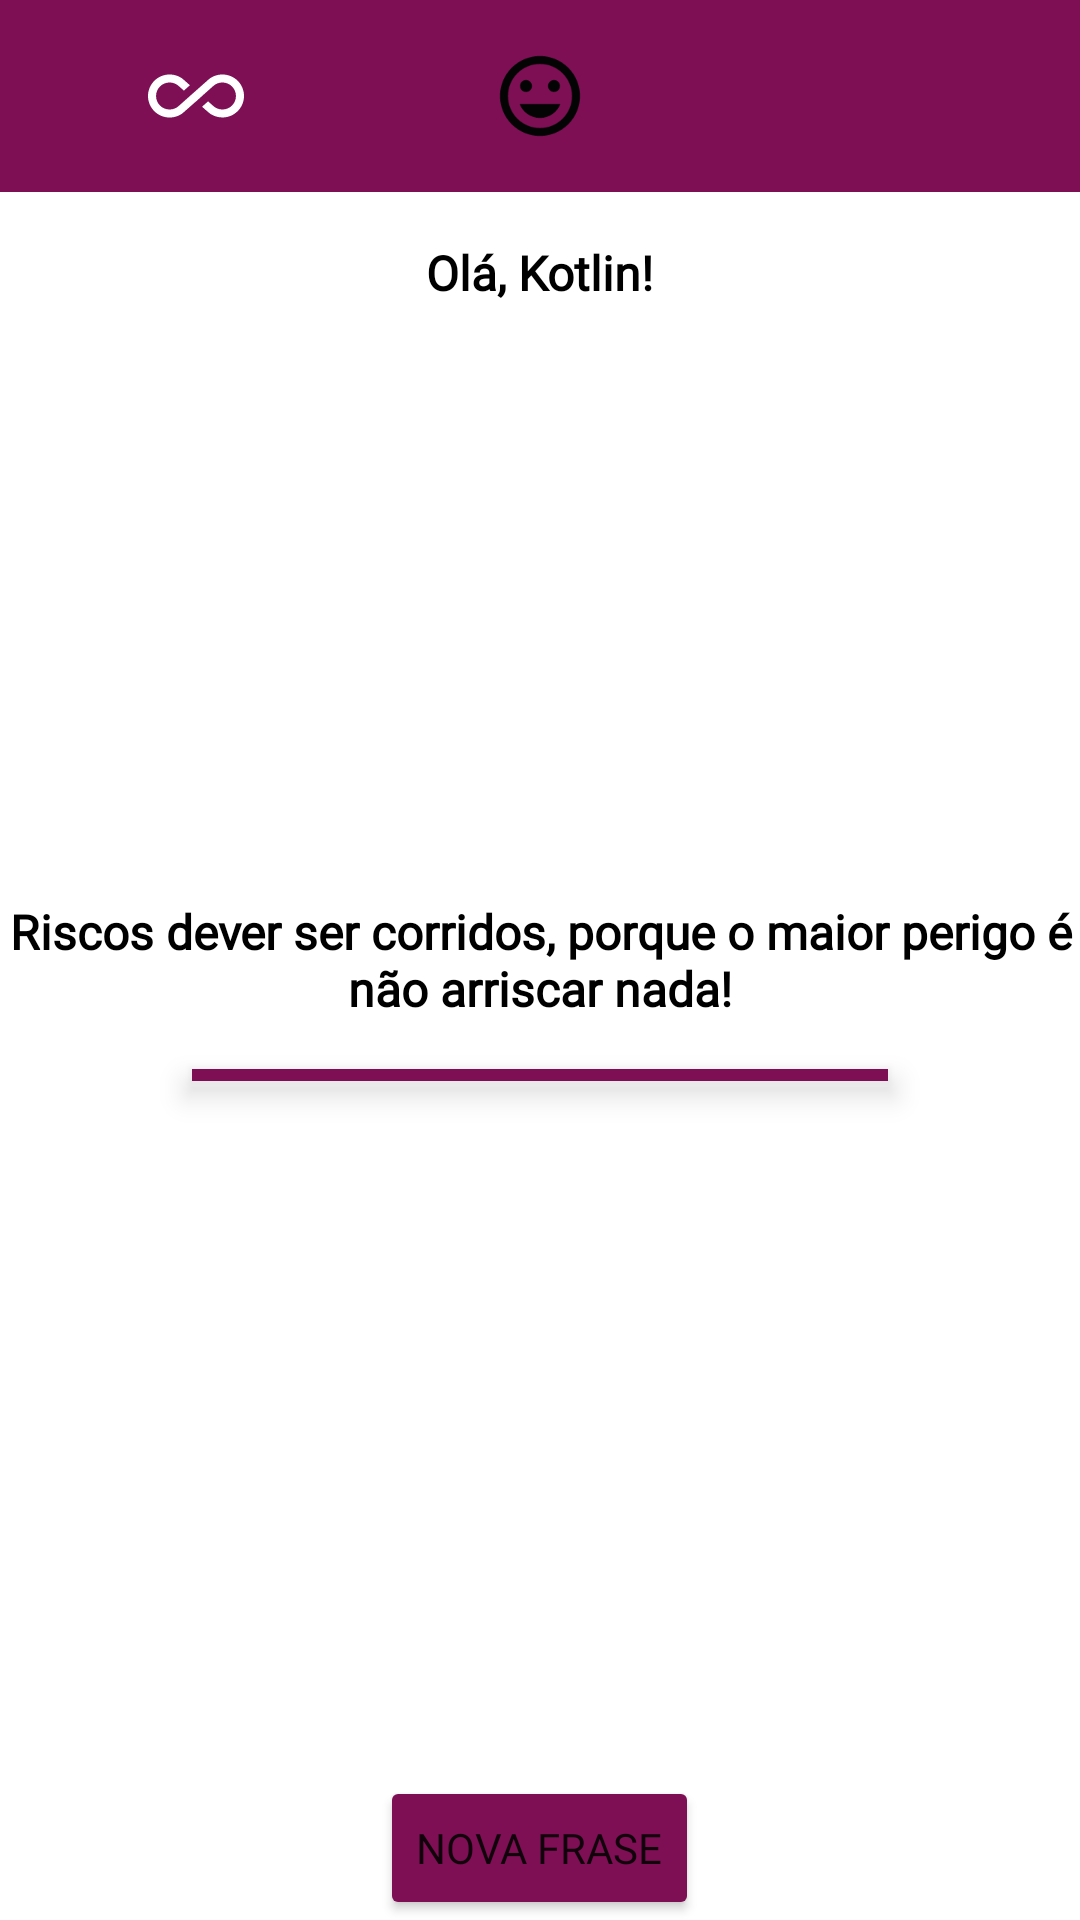

Where to tap for icons on this 1080px x 1920px app screen, as [x,y]:
all inclusive: [196,96]
happy: [540,96]
